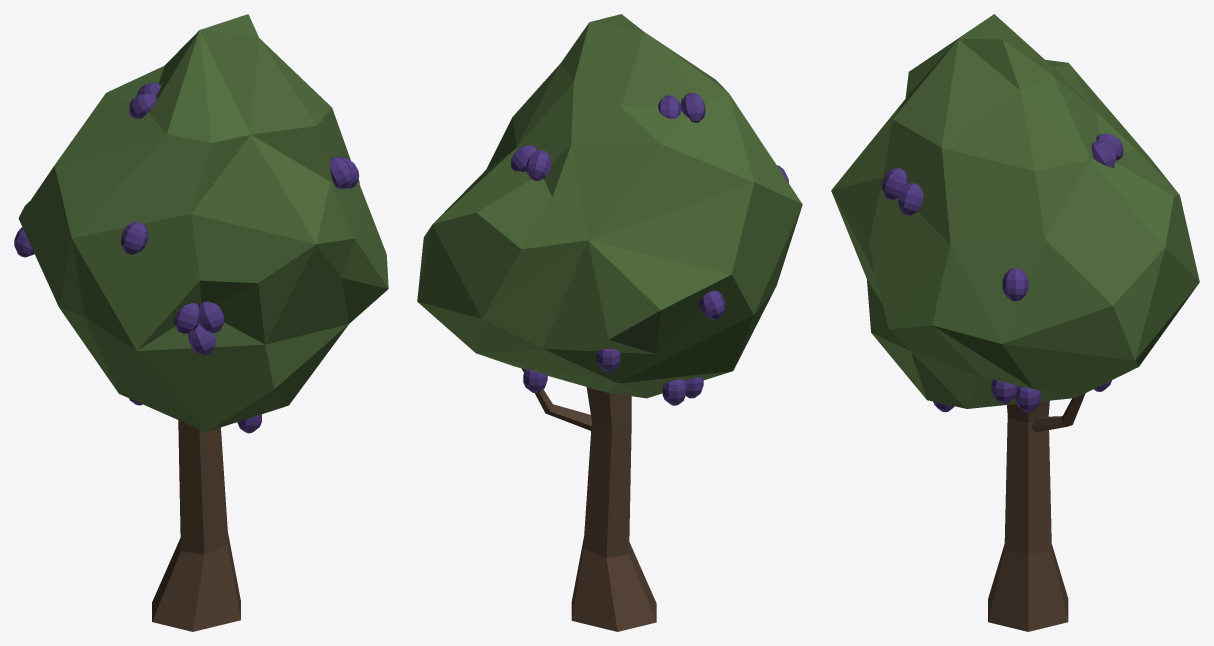
File: SM_Envr_Nature_Farm_Tree_Plum_Mature_01.fbx
3 views of the same model, side by side, from view 1: azimuth 30°, elevation 25°; view 2: azimuth 150°, elevation 25°; view 3: azimuth 270°, elevation 25° (orthographic). The views are drawn at different scales.
Parts seen in each view (by area): view 1: SM_Envr_Nature_Farm_Tree_Plum_Mature_01; view 2: SM_Envr_Nature_Farm_Tree_Plum_Mature_01; view 3: SM_Envr_Nature_Farm_Tree_Plum_Mature_01.
Boxes of the visible parts, x1,y1,x2,y2 form: SM_Envr_Nature_Farm_Tree_Plum_Mature_01: [14, 14, 388, 631]; SM_Envr_Nature_Farm_Tree_Plum_Mature_01: [417, 14, 802, 631]; SM_Envr_Nature_Farm_Tree_Plum_Mature_01: [831, 14, 1199, 631].
Size of the model in its own units: 326 by 587 by 332.
